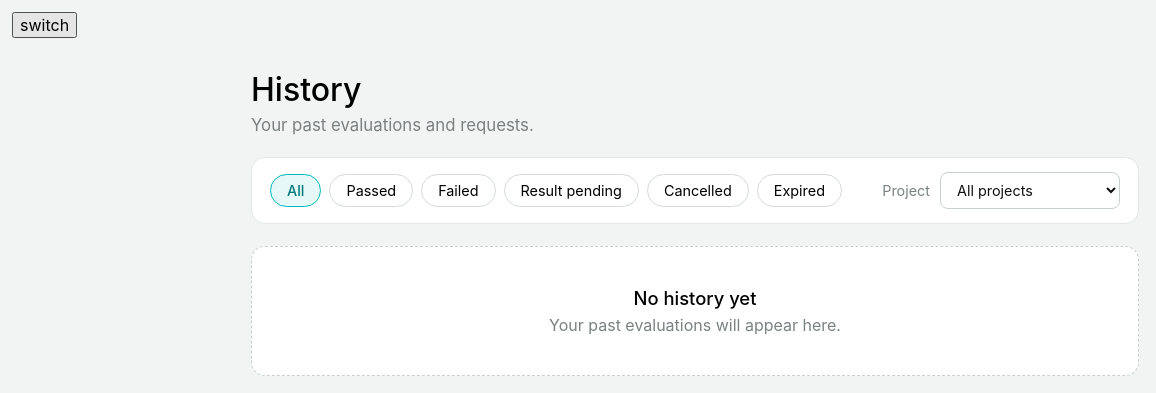
HistoryPage › says when the filters match nothing
Expected: the heading "No history yet" is shown, [634,287,756,309]
Click the button "Expired" at {"x": 799, "y": 190}, box [757,174,842,207]
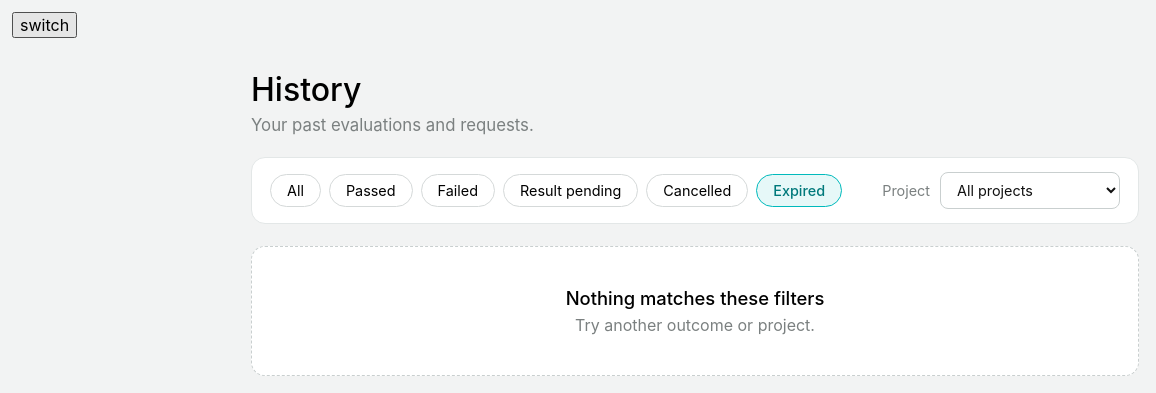
Expected: the heading "Nothing matches these filters" is shown, [566,287,824,309]
